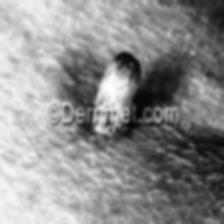Potentially Malignant Skin Tumors: (87, 38, 147, 150)
